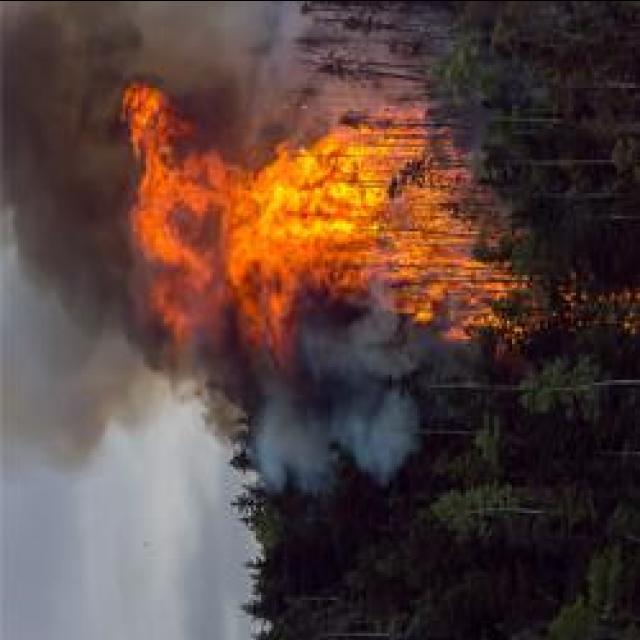fire: (230, 162, 440, 277)
smoke: (1, 0, 150, 322), (256, 284, 430, 480)
